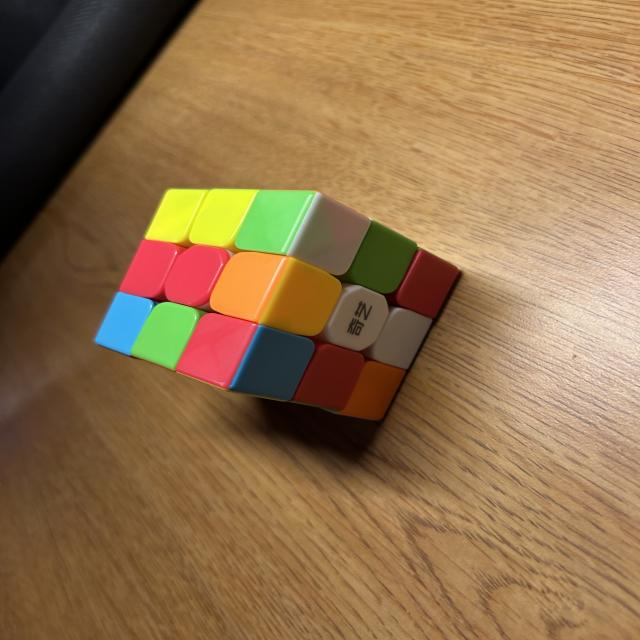Rubiks Cube: (92, 189, 460, 419)
